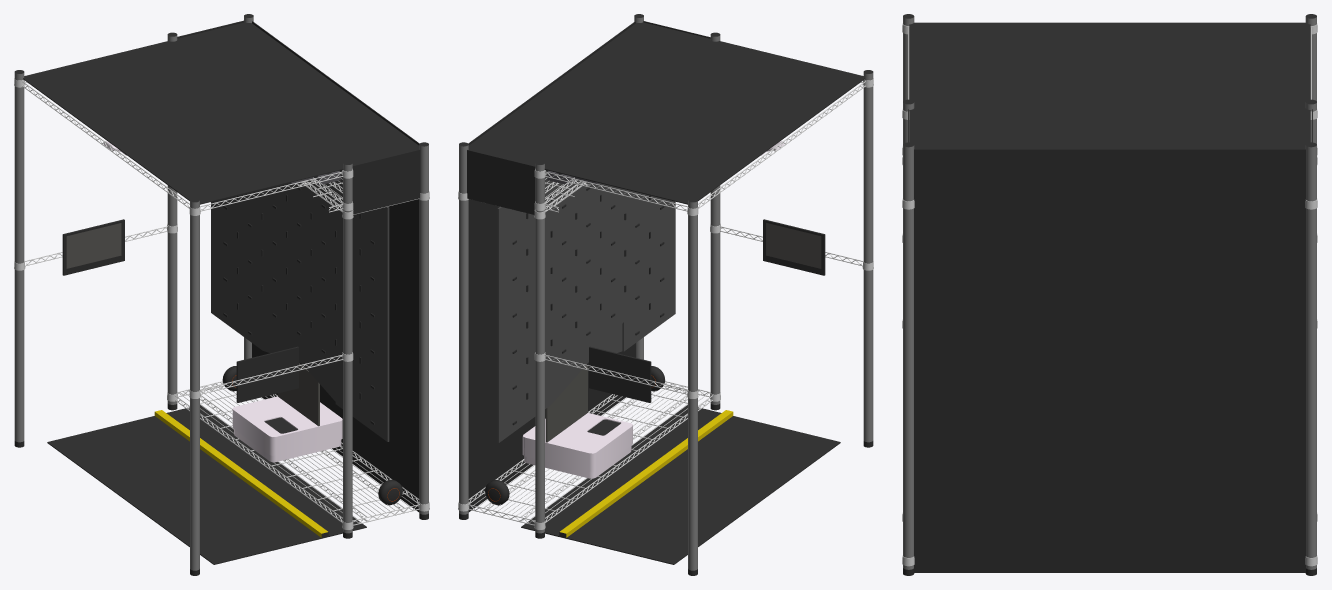
Rendered from device_view.fbx.
3 renders of one model, left to right at view 1: azimuth 30°, elevation 25°; view 2: azimuth 150°, elevation 25°; view 3: azimuth 270°, elevation 25°, orthographic. The views are drawn at different scales.
Parts seen in each view (by area): view 1: Fan Board, Roof (Center/Front), Mat, Metal Rack, Roof (Center/Back), Roof (Center/Back/Bottom), Projector, Metal Rack (Bottom), Roof (Right/Back), Mobile Monitor (L), Mobile Monitor (R), Frame (Up) (+5 smaller); view 2: Fan Board, Roof (Center/Front), Mat, Metal Rack, Roof (Center/Back), Roof (Center/Back/Bottom), Projector, Metal Rack (Bottom), Roof (Left/Back), Mobile Monitor (R), Mobile Monitor (L), Frame (Up) (+4 smaller); view 3: Roof (Center/Back/Bottom), Roof (Center/Front), Roof (Center/Back/Up), Roof (Center/Back), Metal Rack, Frame (Up).
Boxes of the visible parts, x1,y1,x2,y2 form: Fan Board: (211, 174, 389, 441); Roof (Center/Front): (23, 41, 343, 204); Mat: (47, 405, 366, 564); Metal Rack: (14, 14, 428, 575); Roof (Center/Back): (177, 22, 419, 165); Roof (Center/Back/Bottom): (252, 170, 419, 512); Projector: (232, 396, 342, 462); Metal Rack (Bottom): (167, 381, 429, 529); Roof (Right/Back): (352, 149, 420, 214); Mobile Monitor (L): (62, 219, 124, 275); Mobile Monitor (R): (236, 346, 298, 402); Frame (Up): (14, 40, 353, 215); Fan Board: (497, 174, 675, 442); Roof (Center/Front): (544, 41, 864, 204); Mat: (521, 405, 840, 564); Metal Rack: (459, 14, 873, 575); Roof (Center/Back): (468, 22, 710, 165); Roof (Center/Back/Bottom): (468, 170, 635, 512); Projector: (522, 413, 632, 478); Metal Rack (Bottom): (458, 381, 720, 529); Roof (Left/Back): (467, 150, 535, 214); Mobile Monitor (R): (763, 219, 825, 275); Mobile Monitor (L): (589, 346, 651, 402); Frame (Up): (534, 40, 873, 215); Roof (Center/Back/Bottom): (914, 205, 1305, 572); Roof (Center/Front): (909, 22, 1310, 108); Roof (Center/Back/Up): (914, 149, 1305, 205); Roof (Center/Back): (909, 109, 1310, 149); Metal Rack: (903, 14, 1316, 575); Frame (Up): (902, 23, 1317, 119).
Bounding box in the file's own units: 141 × 210 × 184.
